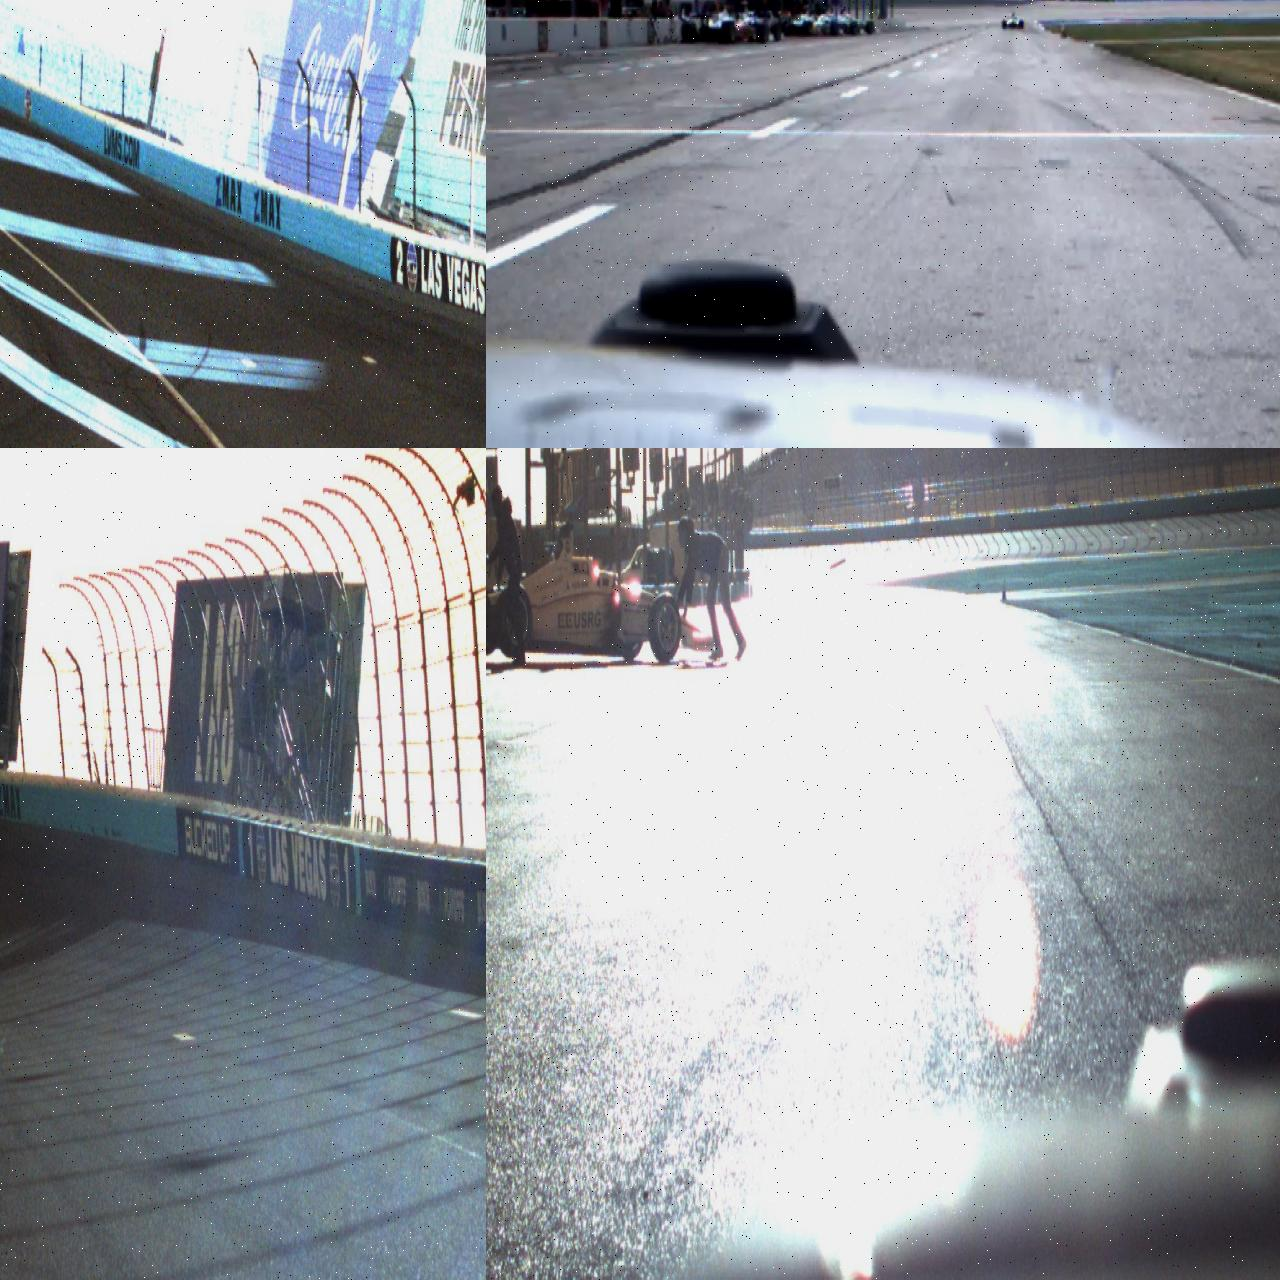AV: (486, 520, 714, 664), (680, 6, 769, 43), (1001, 12, 1024, 30)
Wheel: (497, 584, 532, 658), (648, 592, 682, 664), (721, 20, 736, 42), (682, 21, 696, 43), (486, 592, 491, 653), (758, 24, 768, 44), (772, 23, 781, 41), (850, 20, 858, 36), (831, 20, 839, 36), (803, 20, 812, 34), (866, 20, 874, 34), (1002, 20, 1006, 30), (1020, 20, 1024, 29)
